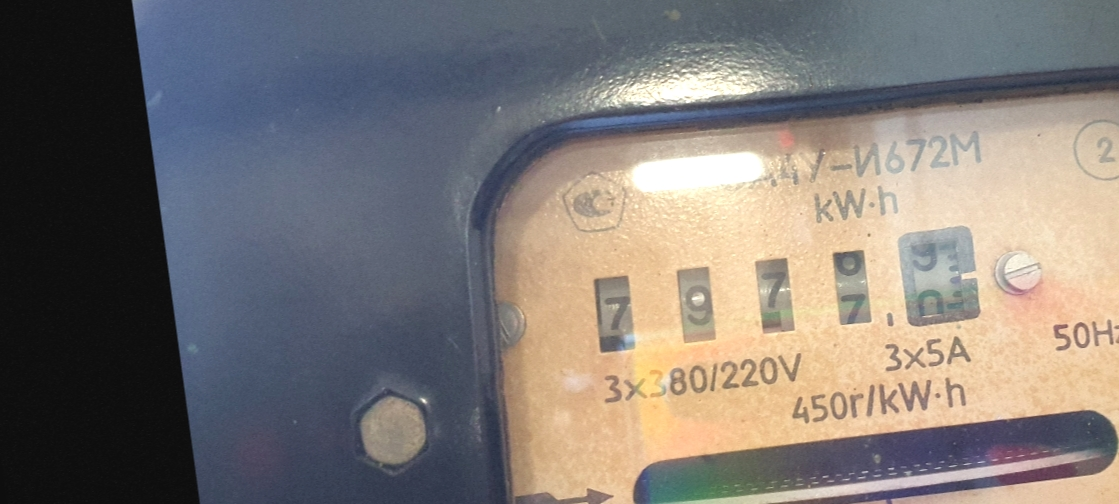0: (912, 280, 949, 322)
7: (600, 289, 636, 335), (757, 264, 793, 310), (837, 287, 872, 326)
9: (679, 278, 718, 327), (907, 233, 942, 272)
screen: (568, 200, 1011, 391)
